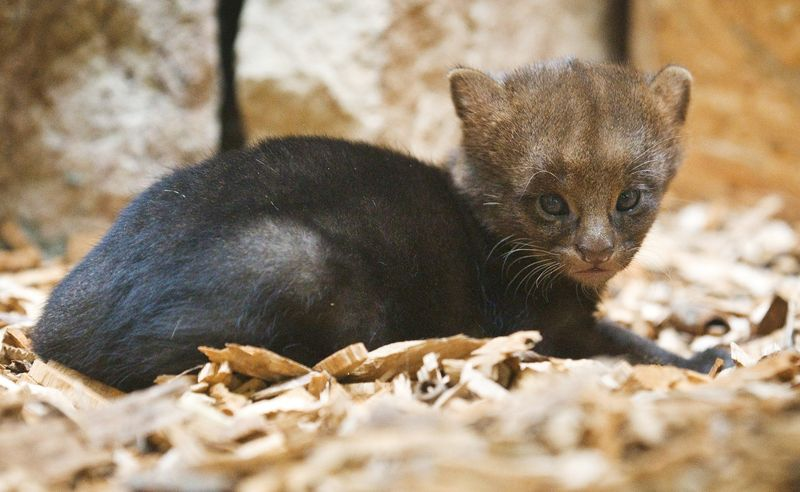Jaguarundi: (30, 50, 734, 375)
